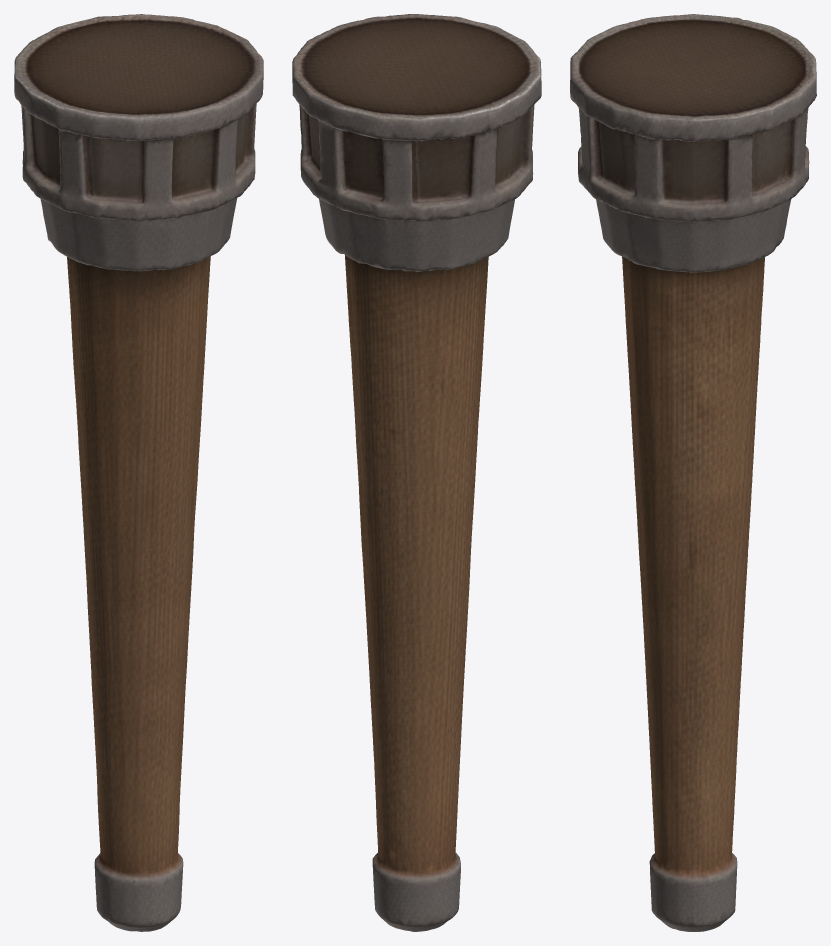
File: handtorch.glb
3 views of the same model, side by side, from view 1: azimuth 30°, elevation 25°; view 2: azimuth 150°, elevation 25°; view 3: azimuth 270°, elevation 25° (orthographic).
Parts seen in each view (by area): view 1: world; view 2: world; view 3: world.
Part boxes in pixels (box(x1,y1,x2,y2)): world: box(14, 14, 263, 931); world: box(292, 14, 541, 931); world: box(570, 14, 816, 931).
Bounding box in the file's own units: 0.5116 × 1.91 × 0.4998.
1 material, 1 textured.
